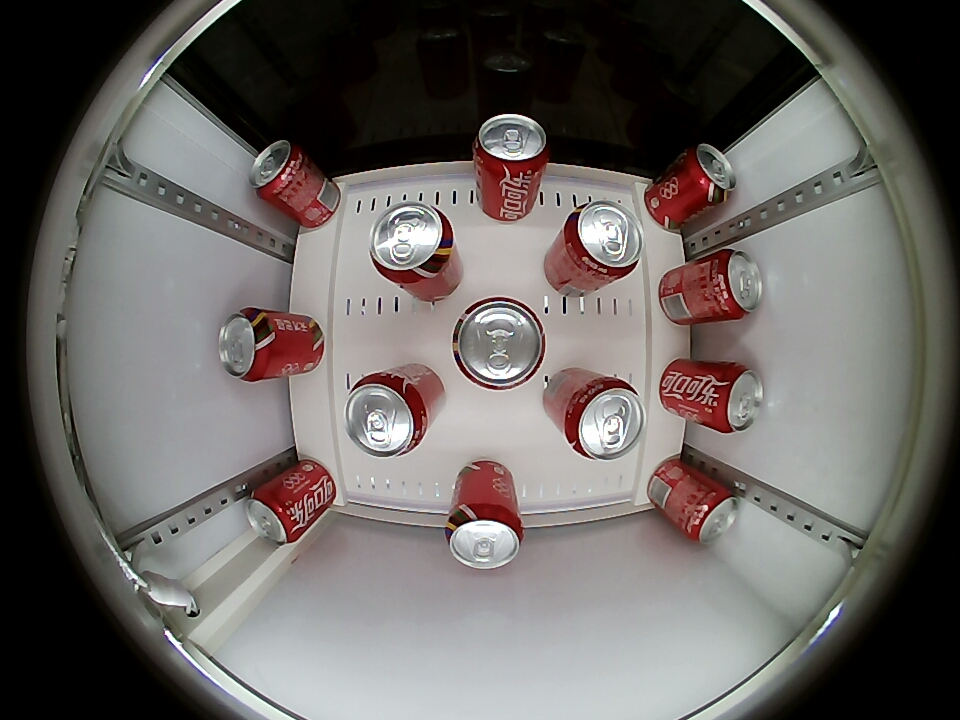kele: (451, 296, 548, 392), (344, 370, 430, 459), (369, 201, 454, 286), (563, 377, 645, 461), (560, 200, 643, 282), (445, 504, 524, 570), (474, 114, 549, 178), (218, 308, 276, 381), (708, 248, 764, 320), (710, 362, 764, 434), (249, 139, 306, 202), (245, 483, 302, 545), (681, 143, 737, 206), (684, 484, 740, 545)
